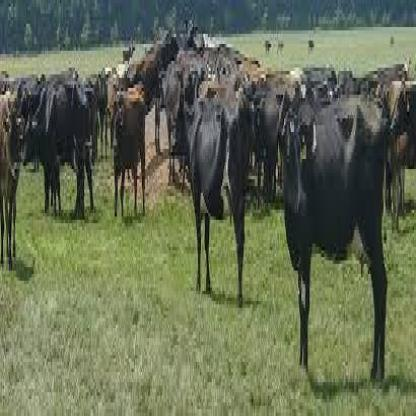cow: (280, 100, 391, 380), (174, 98, 250, 304), (26, 76, 98, 211), (108, 96, 151, 218), (0, 86, 26, 268)
